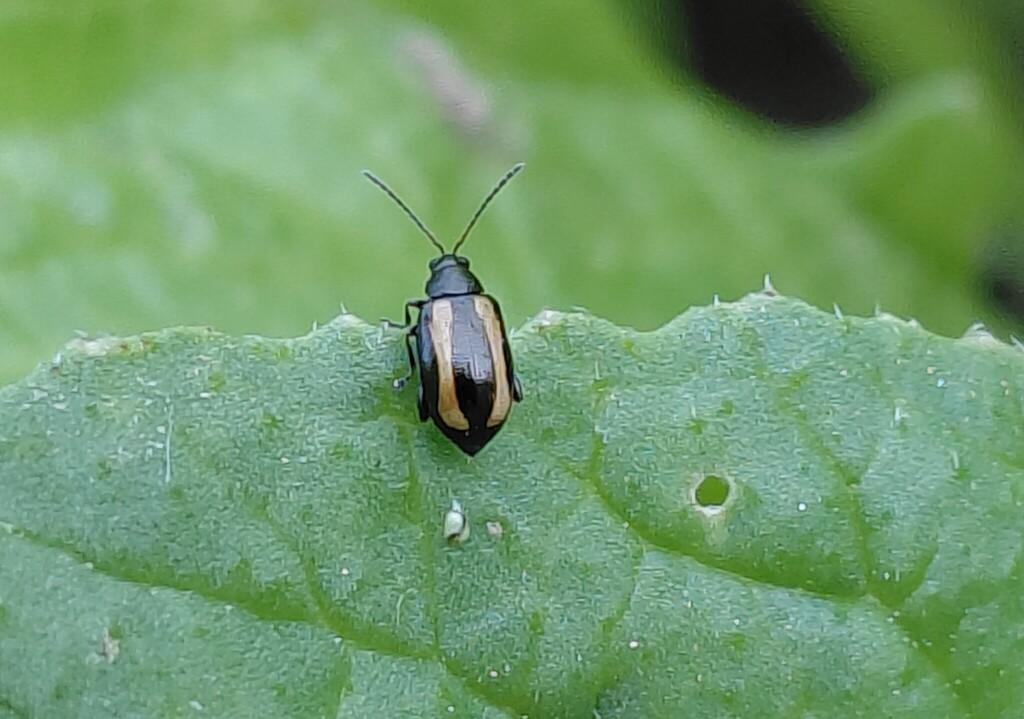flea_beetle: (330, 122, 601, 473)
